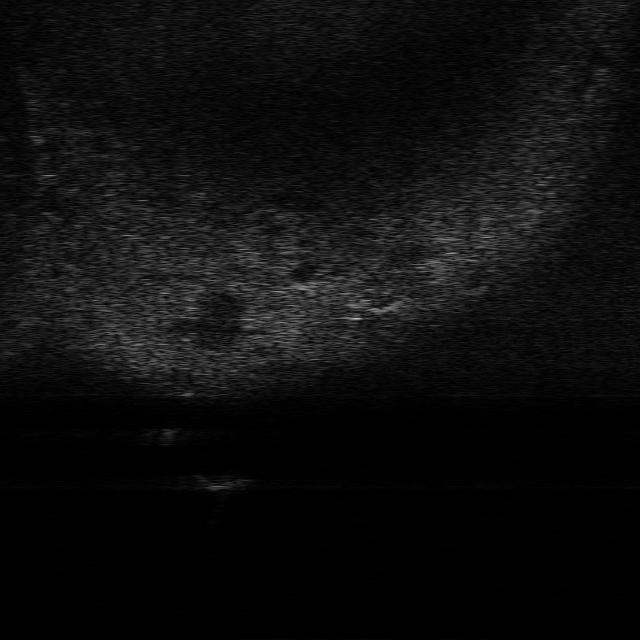cube: (192, 470, 258, 493)
